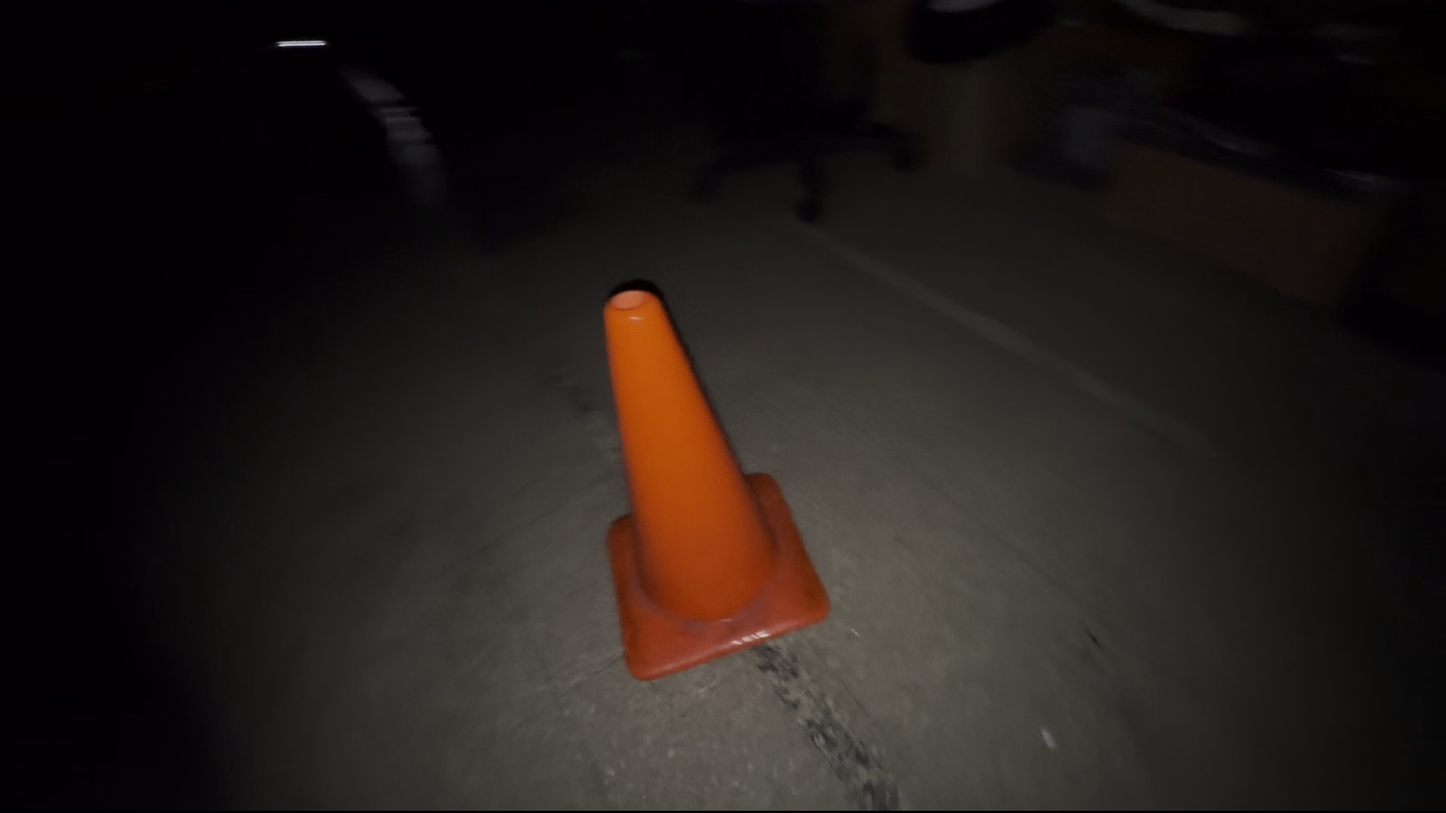traffic_cone: (600, 282, 831, 682)
